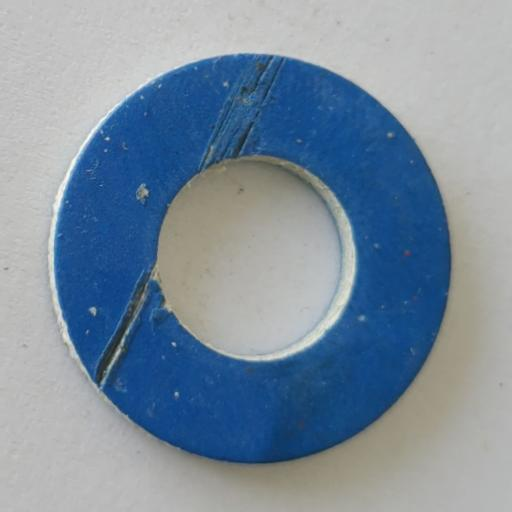defect: (198, 55, 286, 173), (94, 267, 161, 391)
